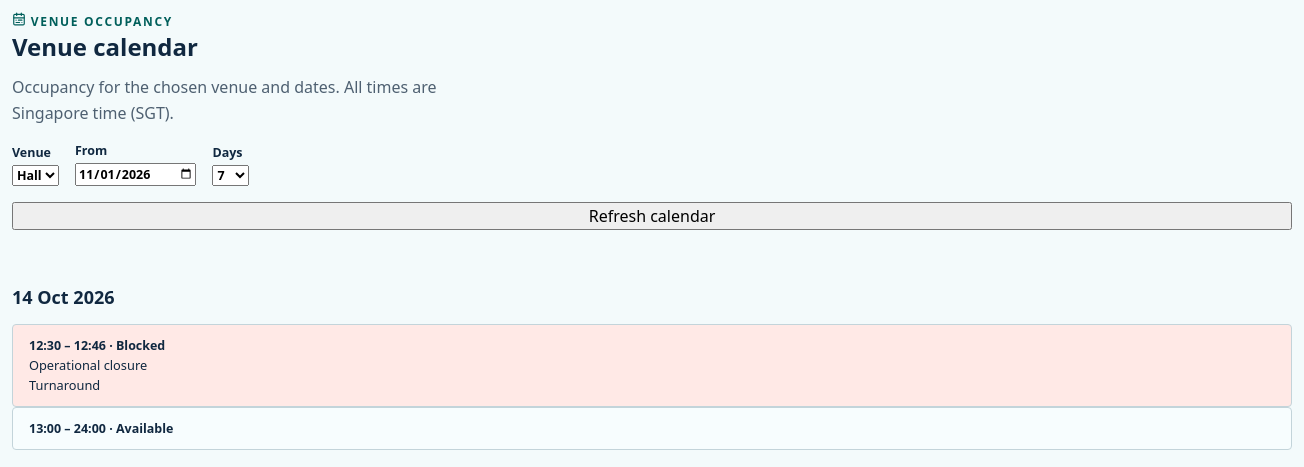
it: [TC-SPL-138-04] renders exact minute boundaries, free time and every reason
Expected: the text "12:30 – 12:46 · Blocked" is shown, [29,337,165,354]
Expected: the text "Turnaround" is shown, [29,376,100,394]
Clear the date field labelled "From": (136, 175) [75,163,196,186]
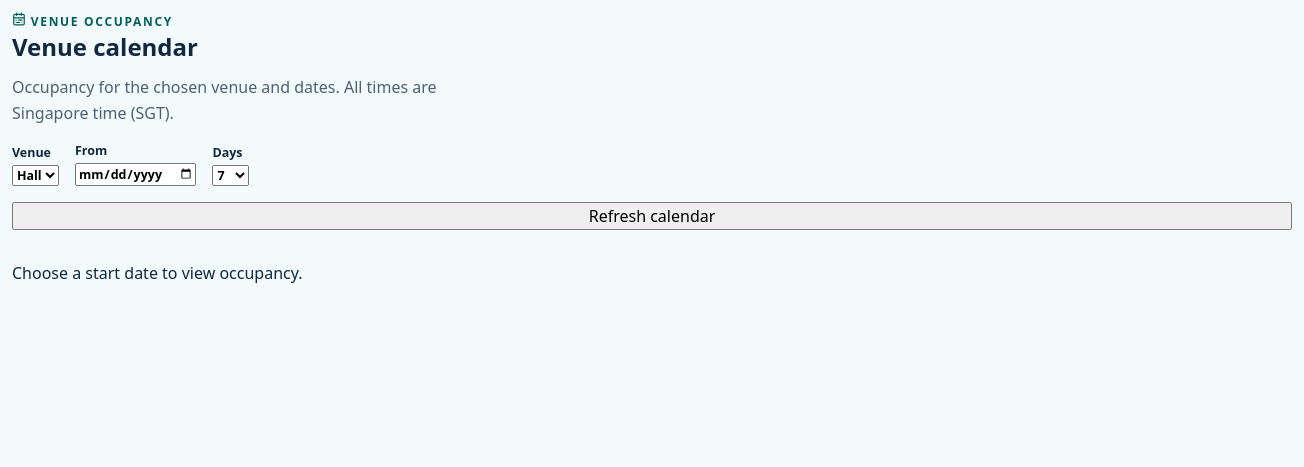
Expected: the text "Turnaround" is gone
